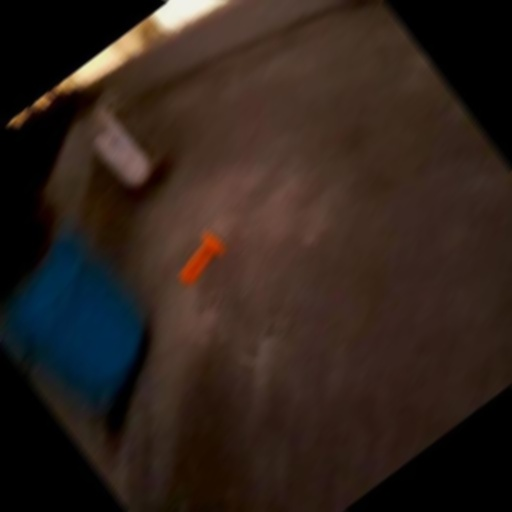mallet: (172, 233, 231, 287)
